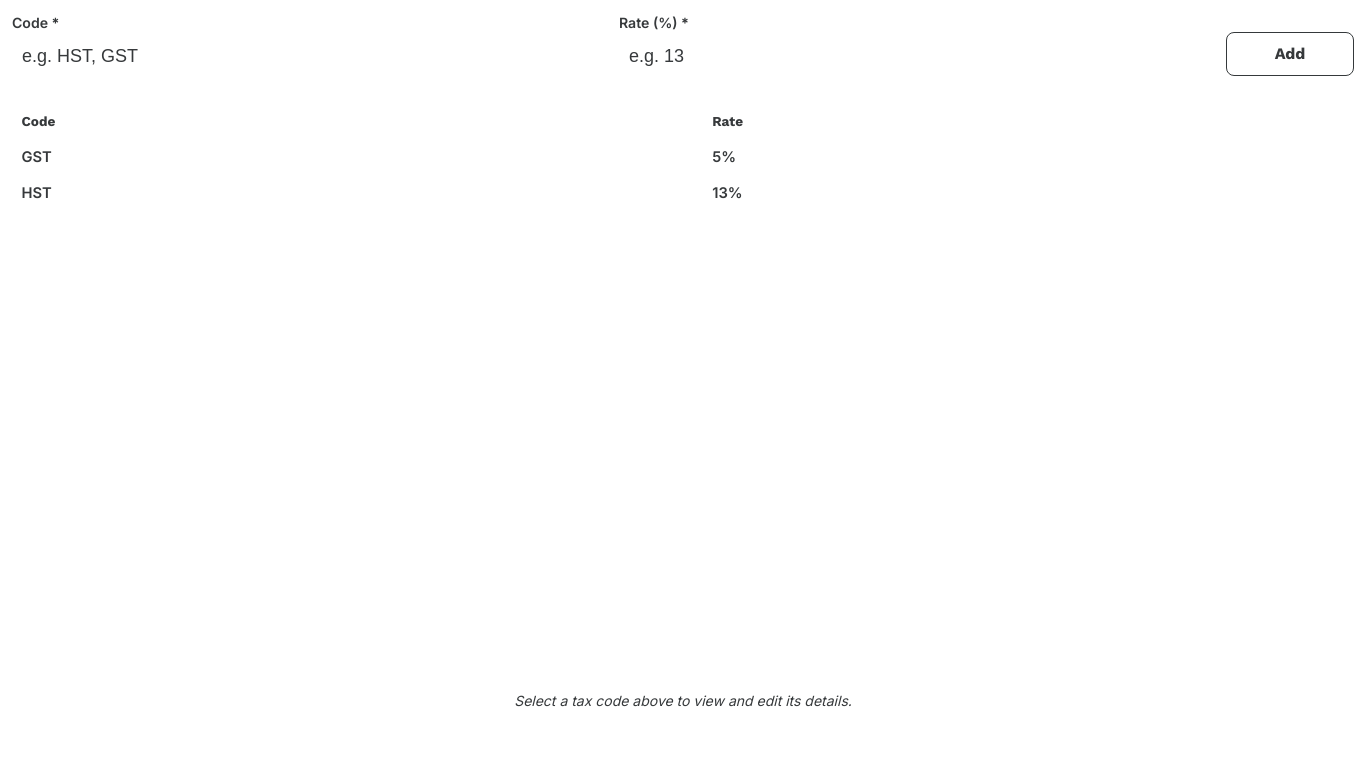
it: TaxCodePanel › edits and saves a tax code via bottom panel
This screenshot has width=1366, height=768.
Click the text "GST" at (37, 157), box [12, 140, 1354, 176]
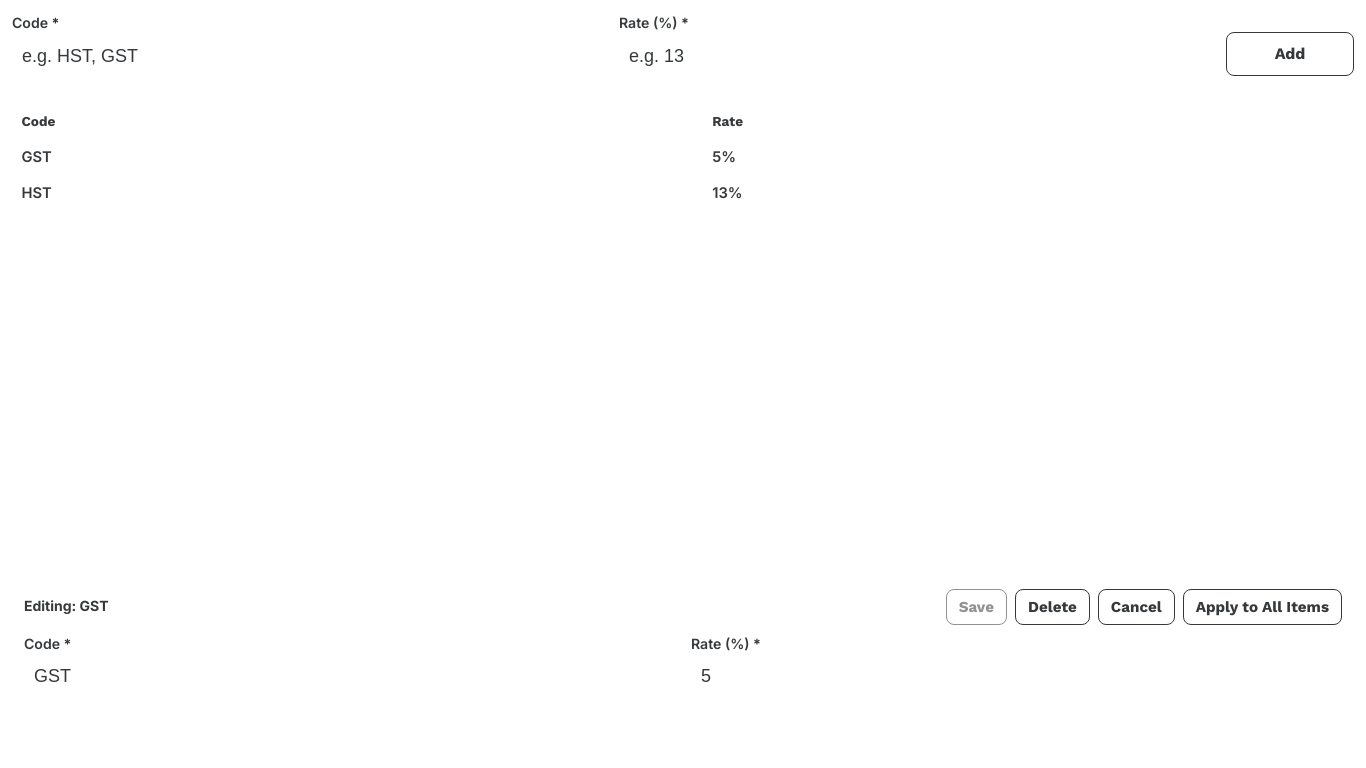
Replace the text in the field named "Edit Tax Code Name" with "GST-NEW" at (350, 677), box [24, 658, 675, 695]
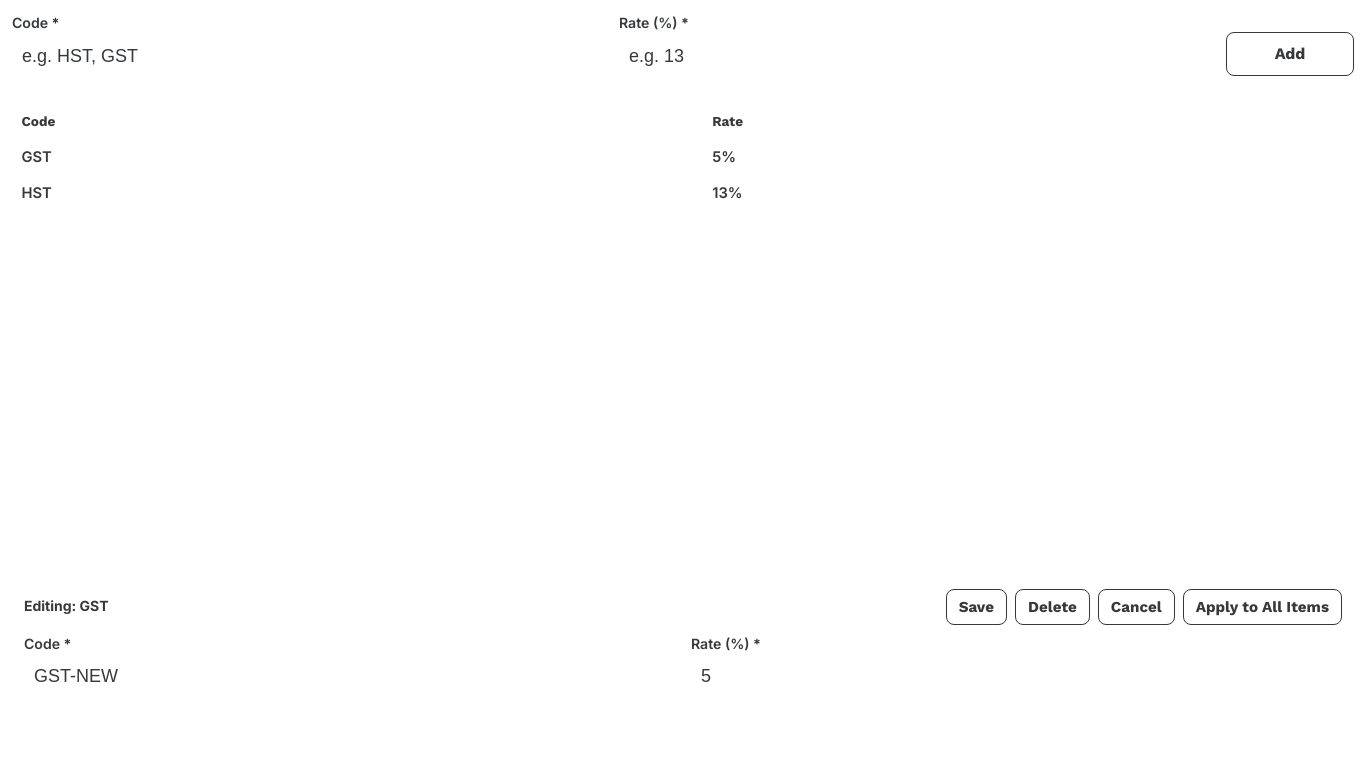
Click the button "Save" at (976, 606), box [946, 588, 1007, 624]
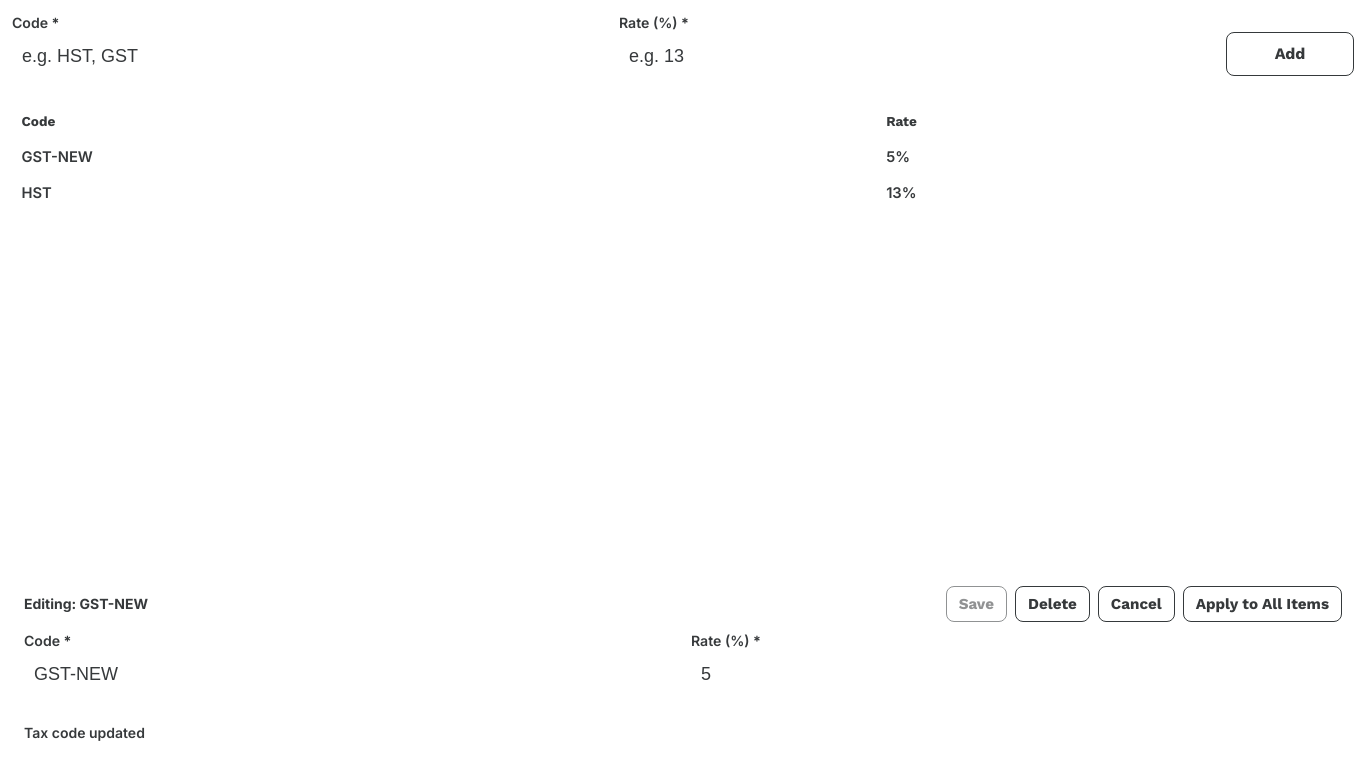
Now the text "Tax code updated" is shown, box [24, 724, 145, 741]
